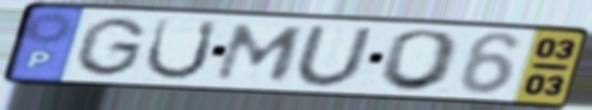6: (452, 29, 527, 98)
G: (70, 15, 151, 78)
M: (210, 21, 311, 83)
O: (375, 28, 465, 93)
U: (291, 24, 377, 89), (140, 16, 222, 82)
